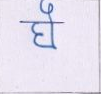ai_matra: (39, 0, 57, 21)
